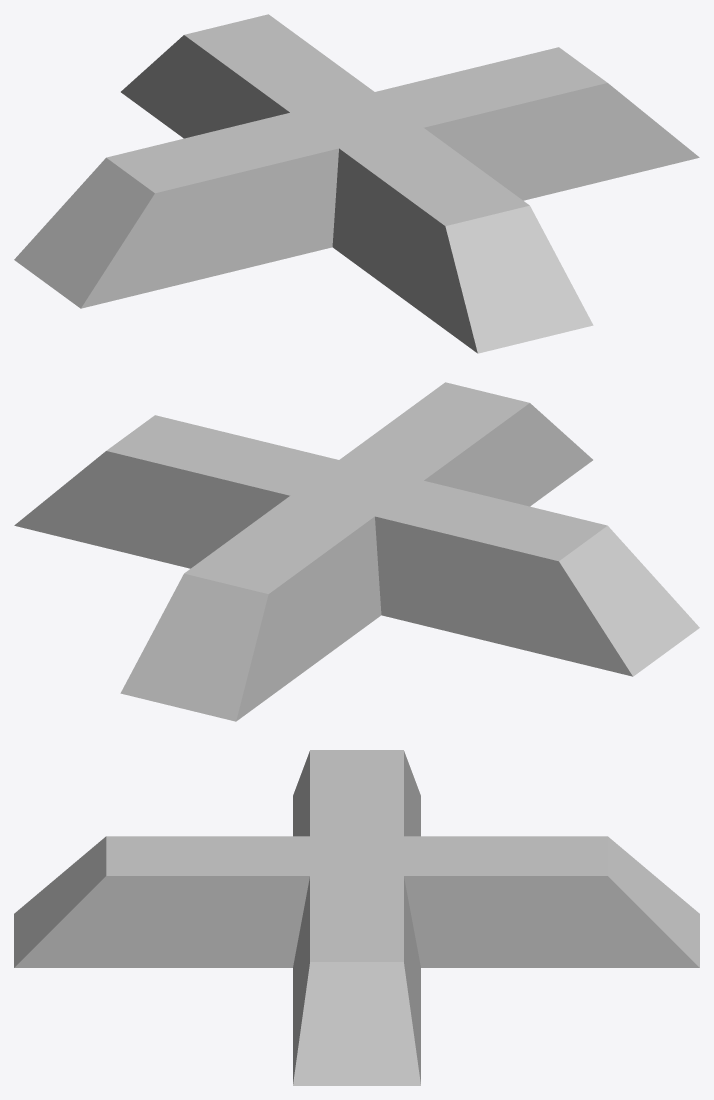
File: Itr_Table_Feet_06.FBX
The picture shows the model from 3 angles, top to bottom: view 1: azimuth 30°, elevation 25°; view 2: azimuth 150°, elevation 25°; view 3: azimuth 270°, elevation 25°; orthographic projection. The views are drawn at different scales.
Parts seen in each view (by area): view 1: Itr_Table_Feet_06; view 2: Itr_Table_Feet_06; view 3: Itr_Table_Feet_06.
Boxes of the visible parts, <box> form: Itr_Table_Feet_06: <box>14,14,699,353</box>; Itr_Table_Feet_06: <box>14,382,699,721</box>; Itr_Table_Feet_06: <box>14,750,699,1085</box>.
Size of the model in its own units: 25.7 by 3.51 by 25.7.
